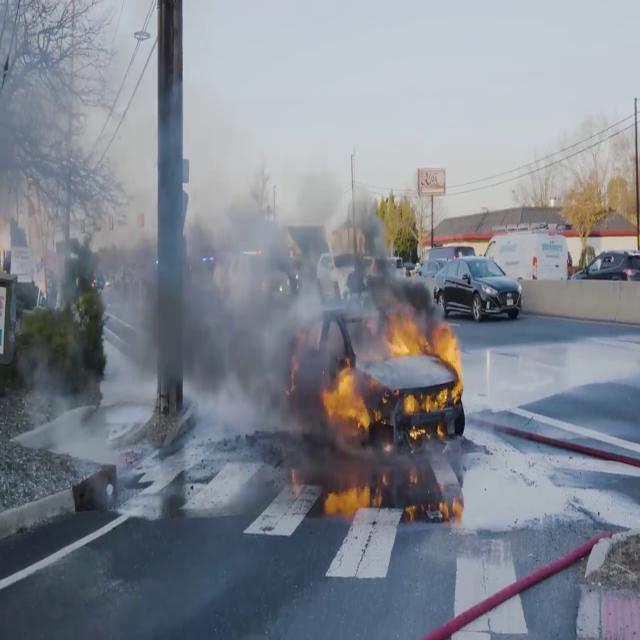Fire: (382, 314, 464, 374), (320, 358, 374, 433), (324, 472, 376, 516)
Smoke: (105, 52, 415, 456)
